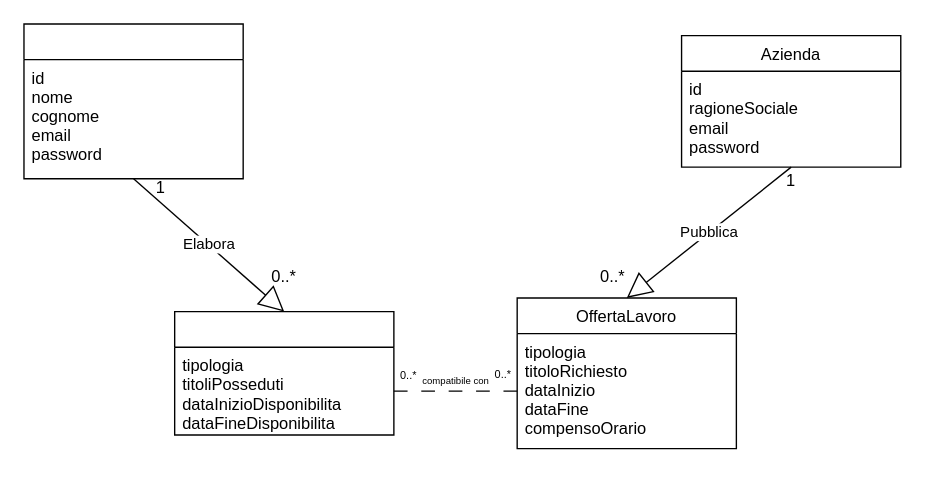
This 925x477 diagram has some shape labels left out. The shapes that lost their labels are listed below. From the top down, each one's box as (x1, y1, x2, y2) in pixels, then its label:
(23, 23, 243, 179): Cliente
(173, 310, 394, 435): RichiestaOccupazione
